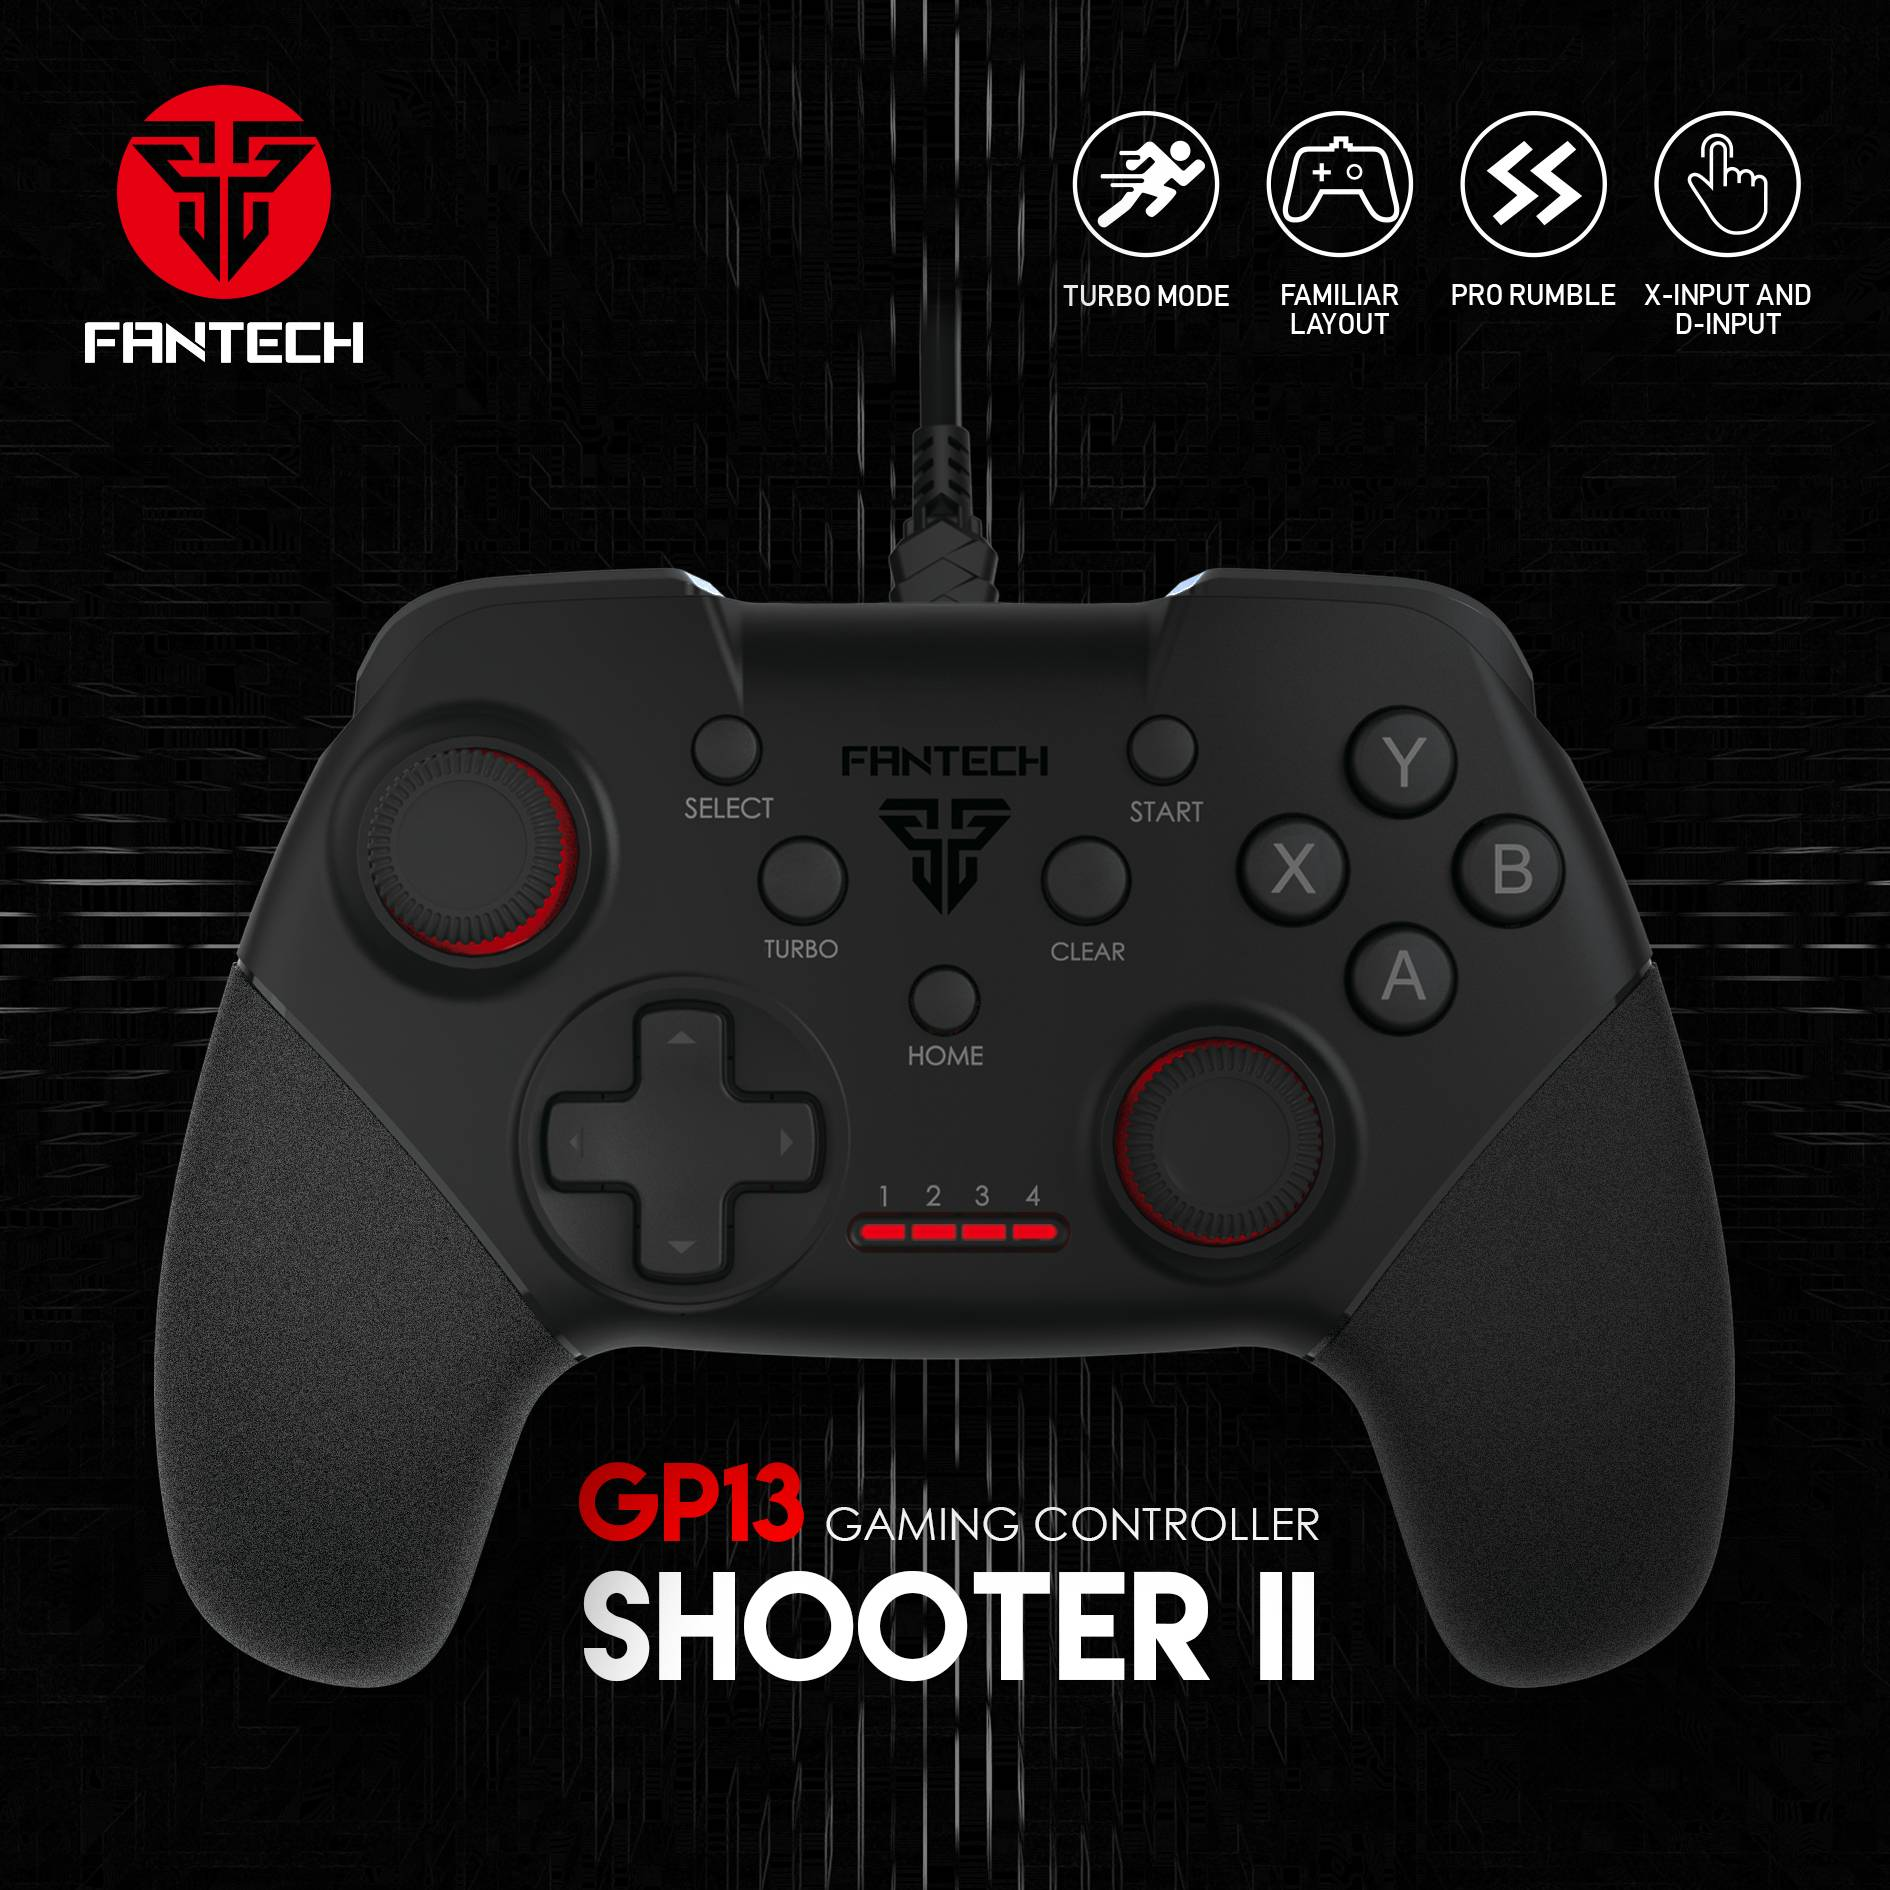controller: (156, 564, 1738, 1689)
